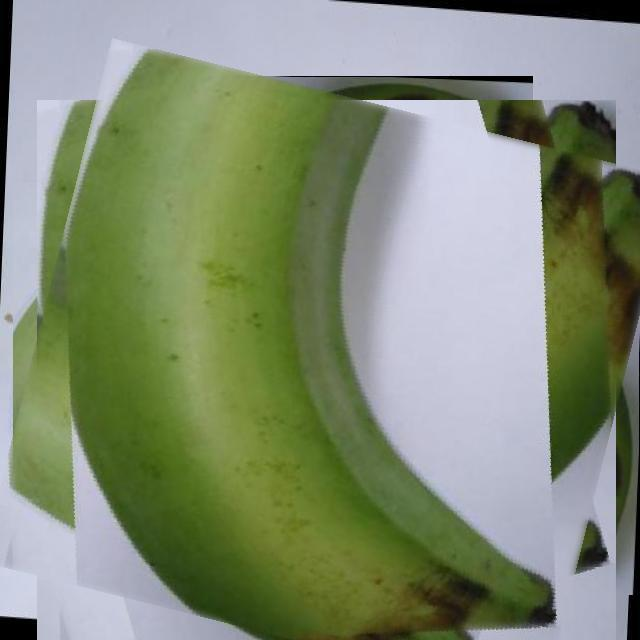Verde: (8, 69, 640, 640)
